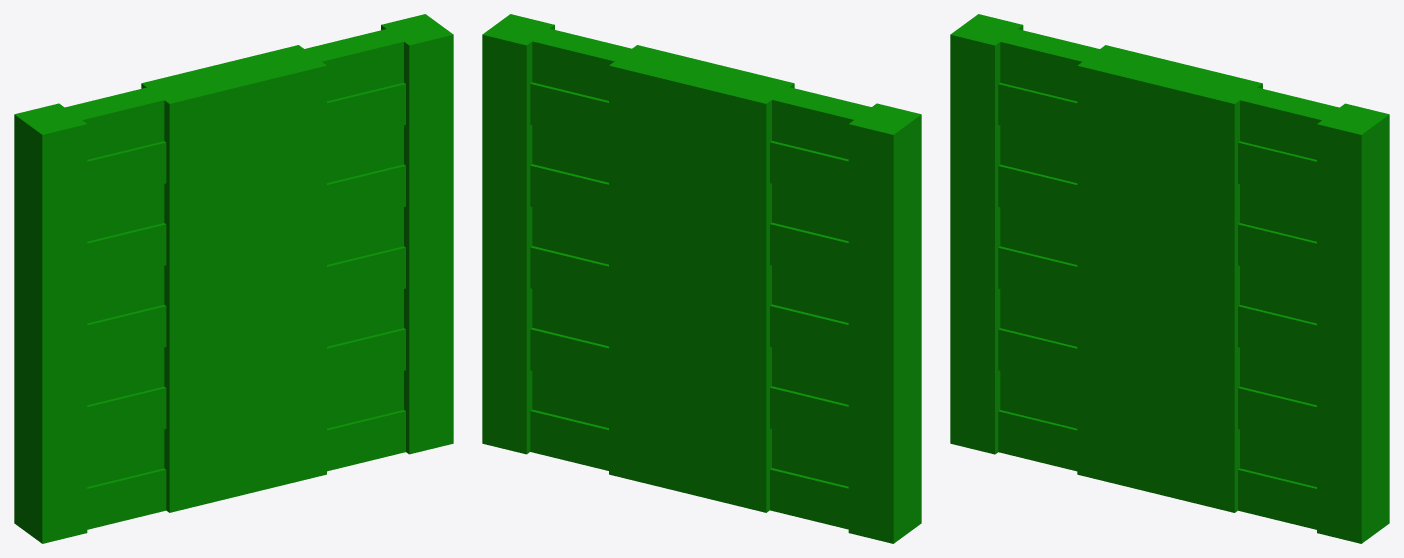
Rendered from GIMM370 Gates Green.fbx.
The picture shows the model from 3 angles, left to right: view 1: azimuth 30°, elevation 25°; view 2: azimuth 150°, elevation 25°; view 3: azimuth 330°, elevation 25°; orthographic projection.
Visible parts, largest first — view 1: Cube.001; view 2: Cube.001; view 3: Cube.001.
Boxes of the visible parts, x1,y1,x2,y2 form: Cube.001: [14, 14, 453, 543]; Cube.001: [482, 14, 921, 543]; Cube.001: [950, 14, 1389, 543].
Bounding box in the file's own units: 1332 × 1265 × 158.
